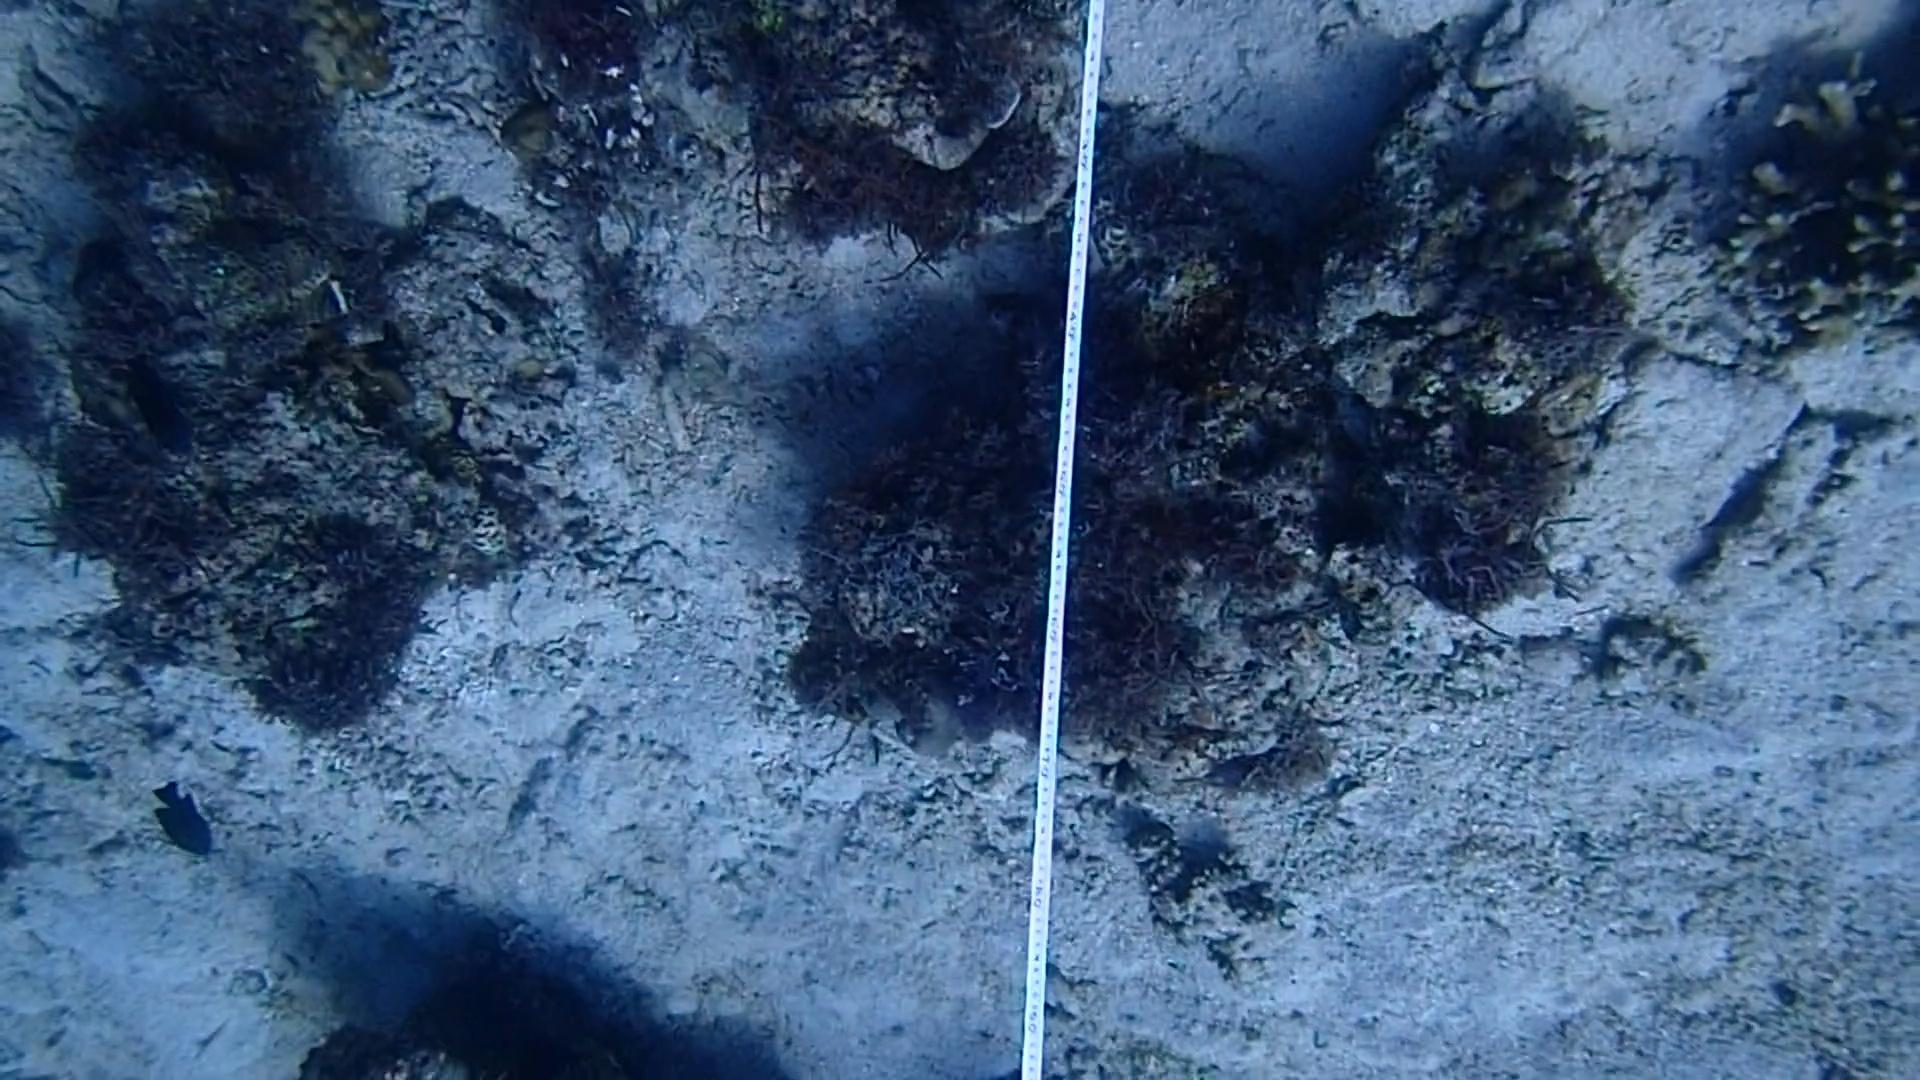Dark Fish: (113, 351, 215, 477), (137, 762, 222, 876)
